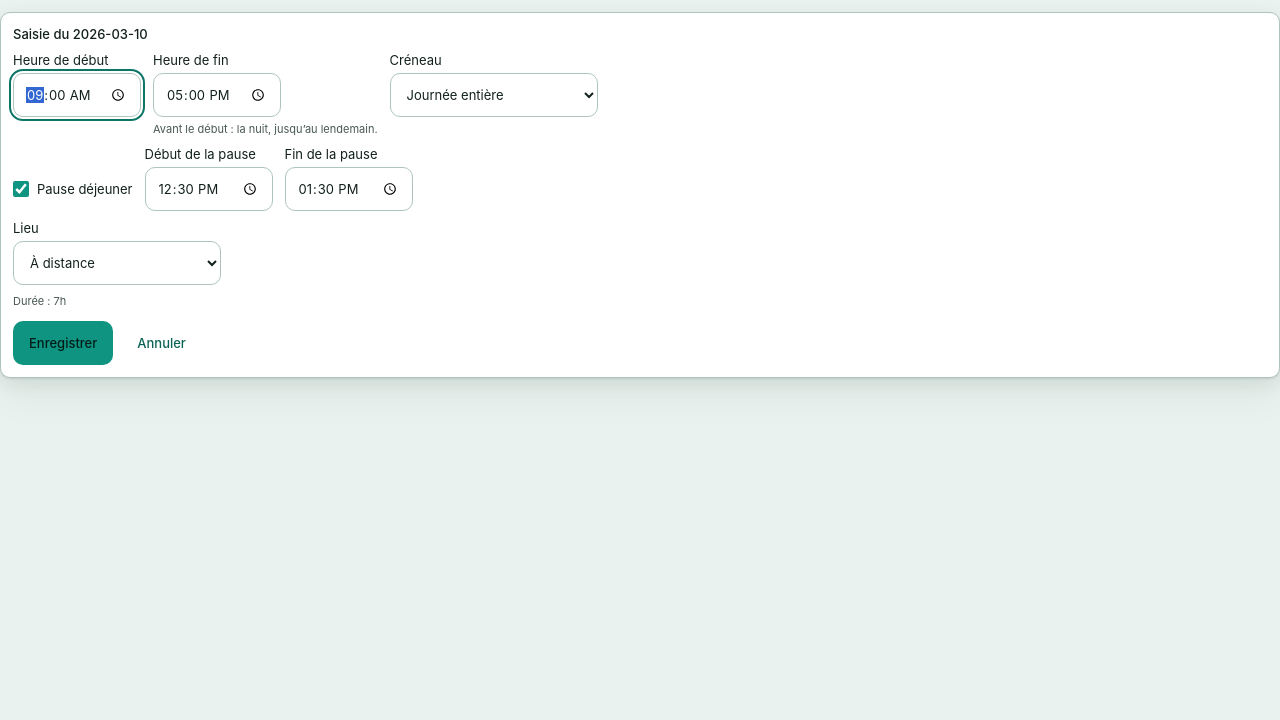
CellForm — pause déjeuner › refuse une pause qui ne tombe pas entre le début et la fin
The width and height of the screenshot is (1280, 720).
Step 1. Replace the text in the time field labelled "Heure de fin" with "12:00" → (217, 95), box [153,73,281,117]
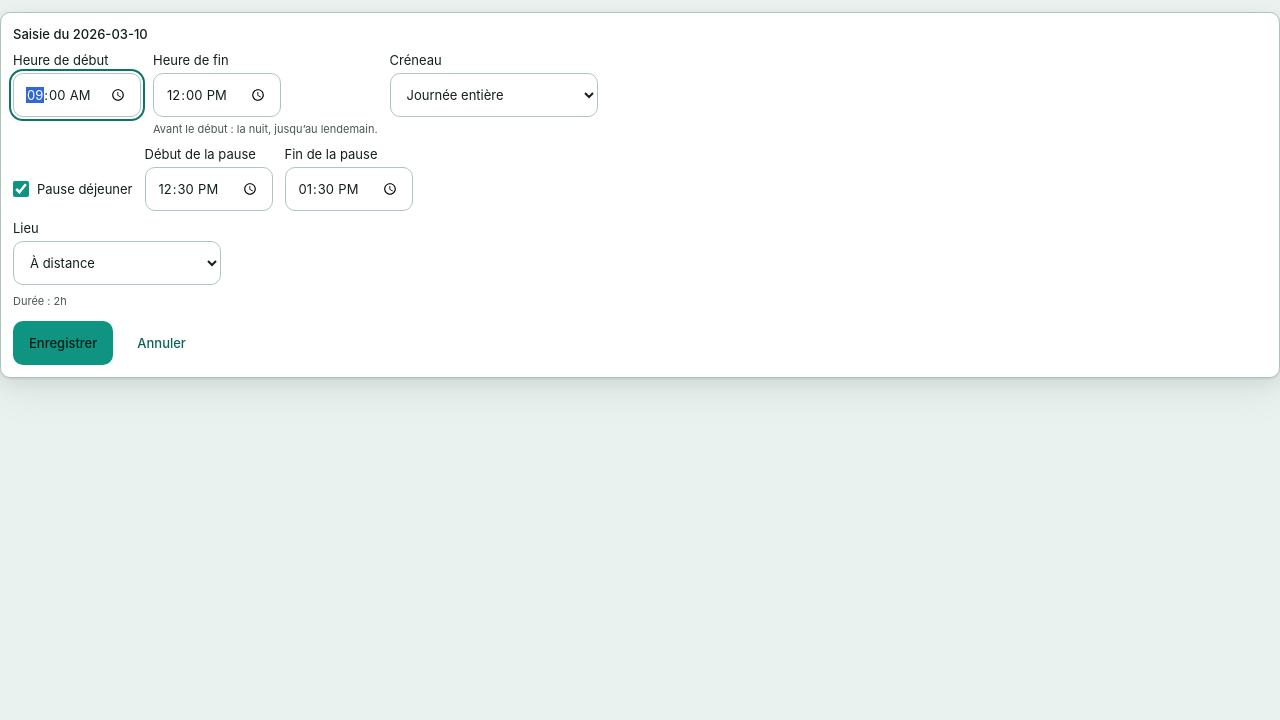
Step 2. Click the button "Enregistrer" → (63, 343), box [13,321,113,365]
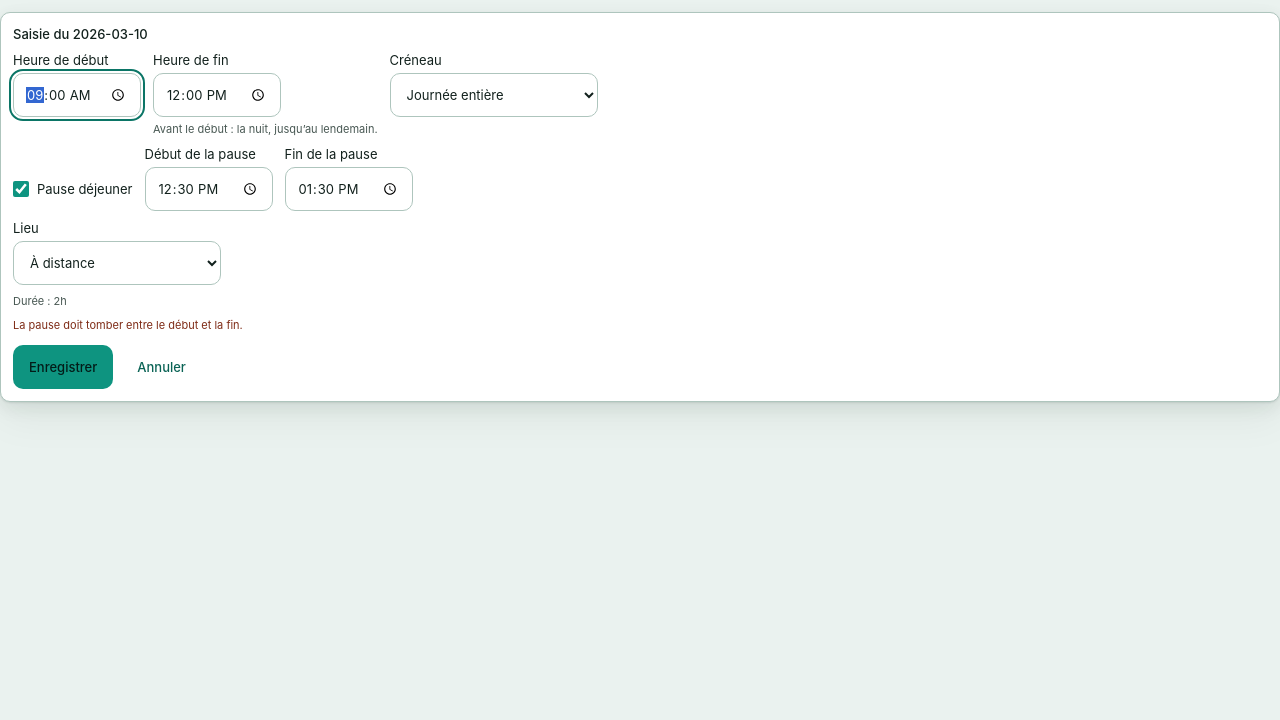
Check: the message "La pause doit tomber entre le début et la fin." is shown, box [13,318,243,332]
